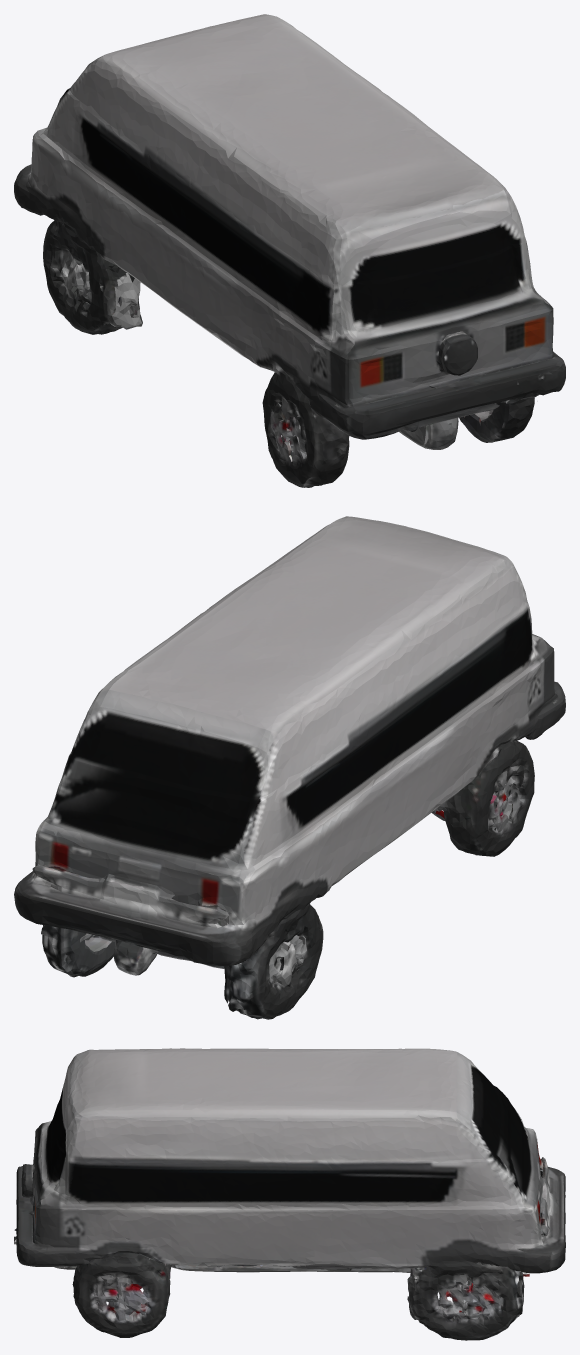
3 renders of one model, top to bottom at view 1: azimuth 30°, elevation 25°; view 2: azimuth 150°, elevation 25°; view 3: azimuth 270°, elevation 25°, orthographic. The views are drawn at different scales.
Parts seen in each view (by area): view 1: world; view 2: world; view 3: world.
Part boxes in pixels (x1,y1,x2,y2): world: (14, 14, 565, 487); world: (14, 516, 565, 1019); world: (14, 1048, 565, 1340).
Bounding box in the file's own units: 0.3866 × 0.4493 × 0.9993.
1 material, 1 textured.
